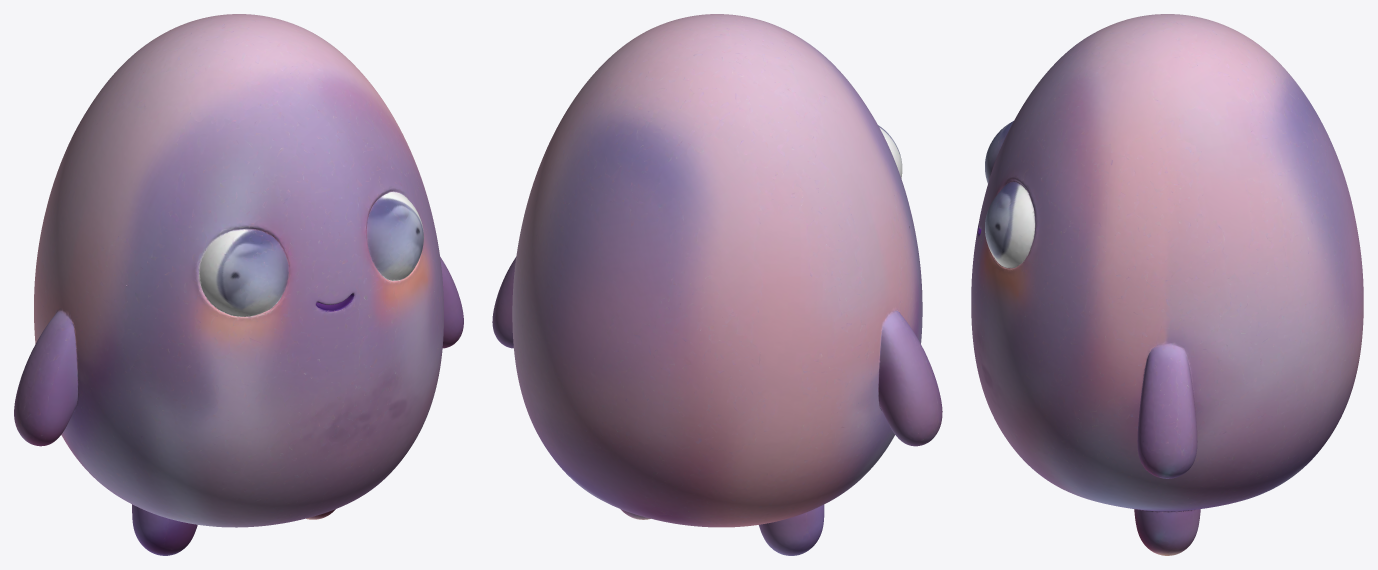
3 views of the same model, side by side, from view 1: azimuth 30°, elevation 25°; view 2: azimuth 150°, elevation 25°; view 3: azimuth 270°, elevation 25° (orthographic). The views are drawn at different scales.
Visible parts, largest first — view 1: world; view 2: world; view 3: world.
Boxes of the visible parts, x1,y1,x2,y2 form: world: (14, 14, 463, 555); world: (492, 14, 942, 555); world: (971, 14, 1363, 555).
Size of the model in its own units: 0.9081 by 1 by 0.7262.
1 material, 1 textured.
